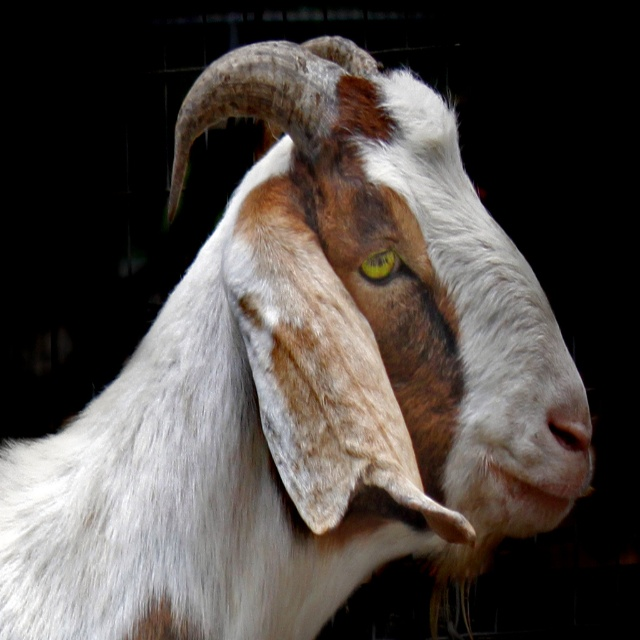Goat: (0, 39, 594, 639)
